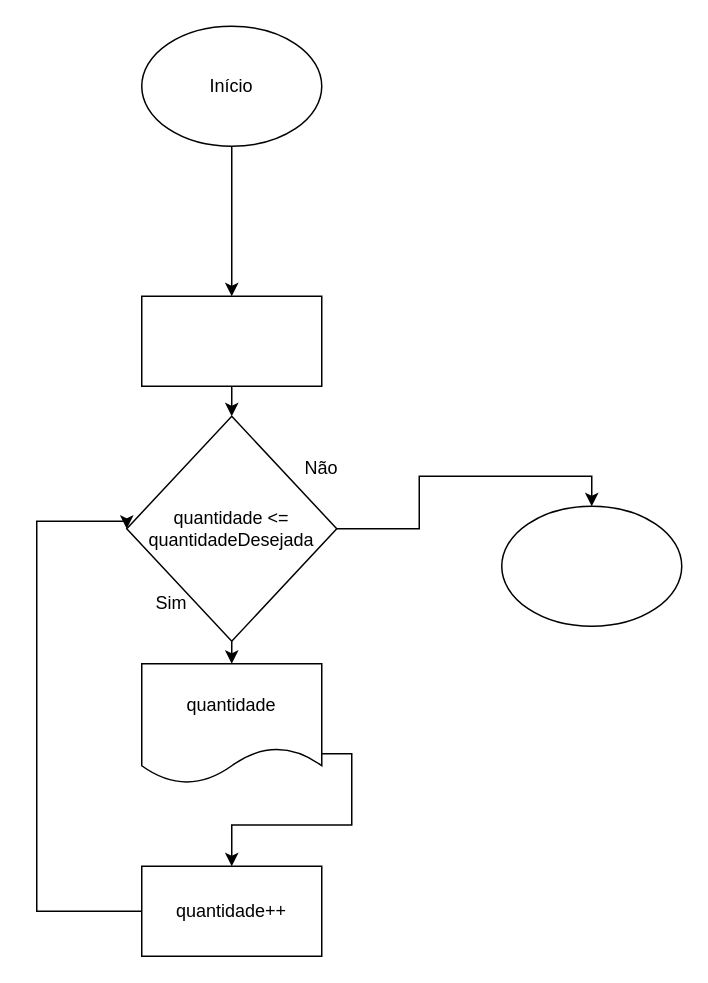
Some shapes in this 708 by 983 pixel diagram are drawn without their labels. The centre of each missing label's shape, as x and y in pixels:
"Fim" belongs at point (591, 565).
"nome = quantidade = 1 quantidadeDesejada=" belongs at point (231, 340).
